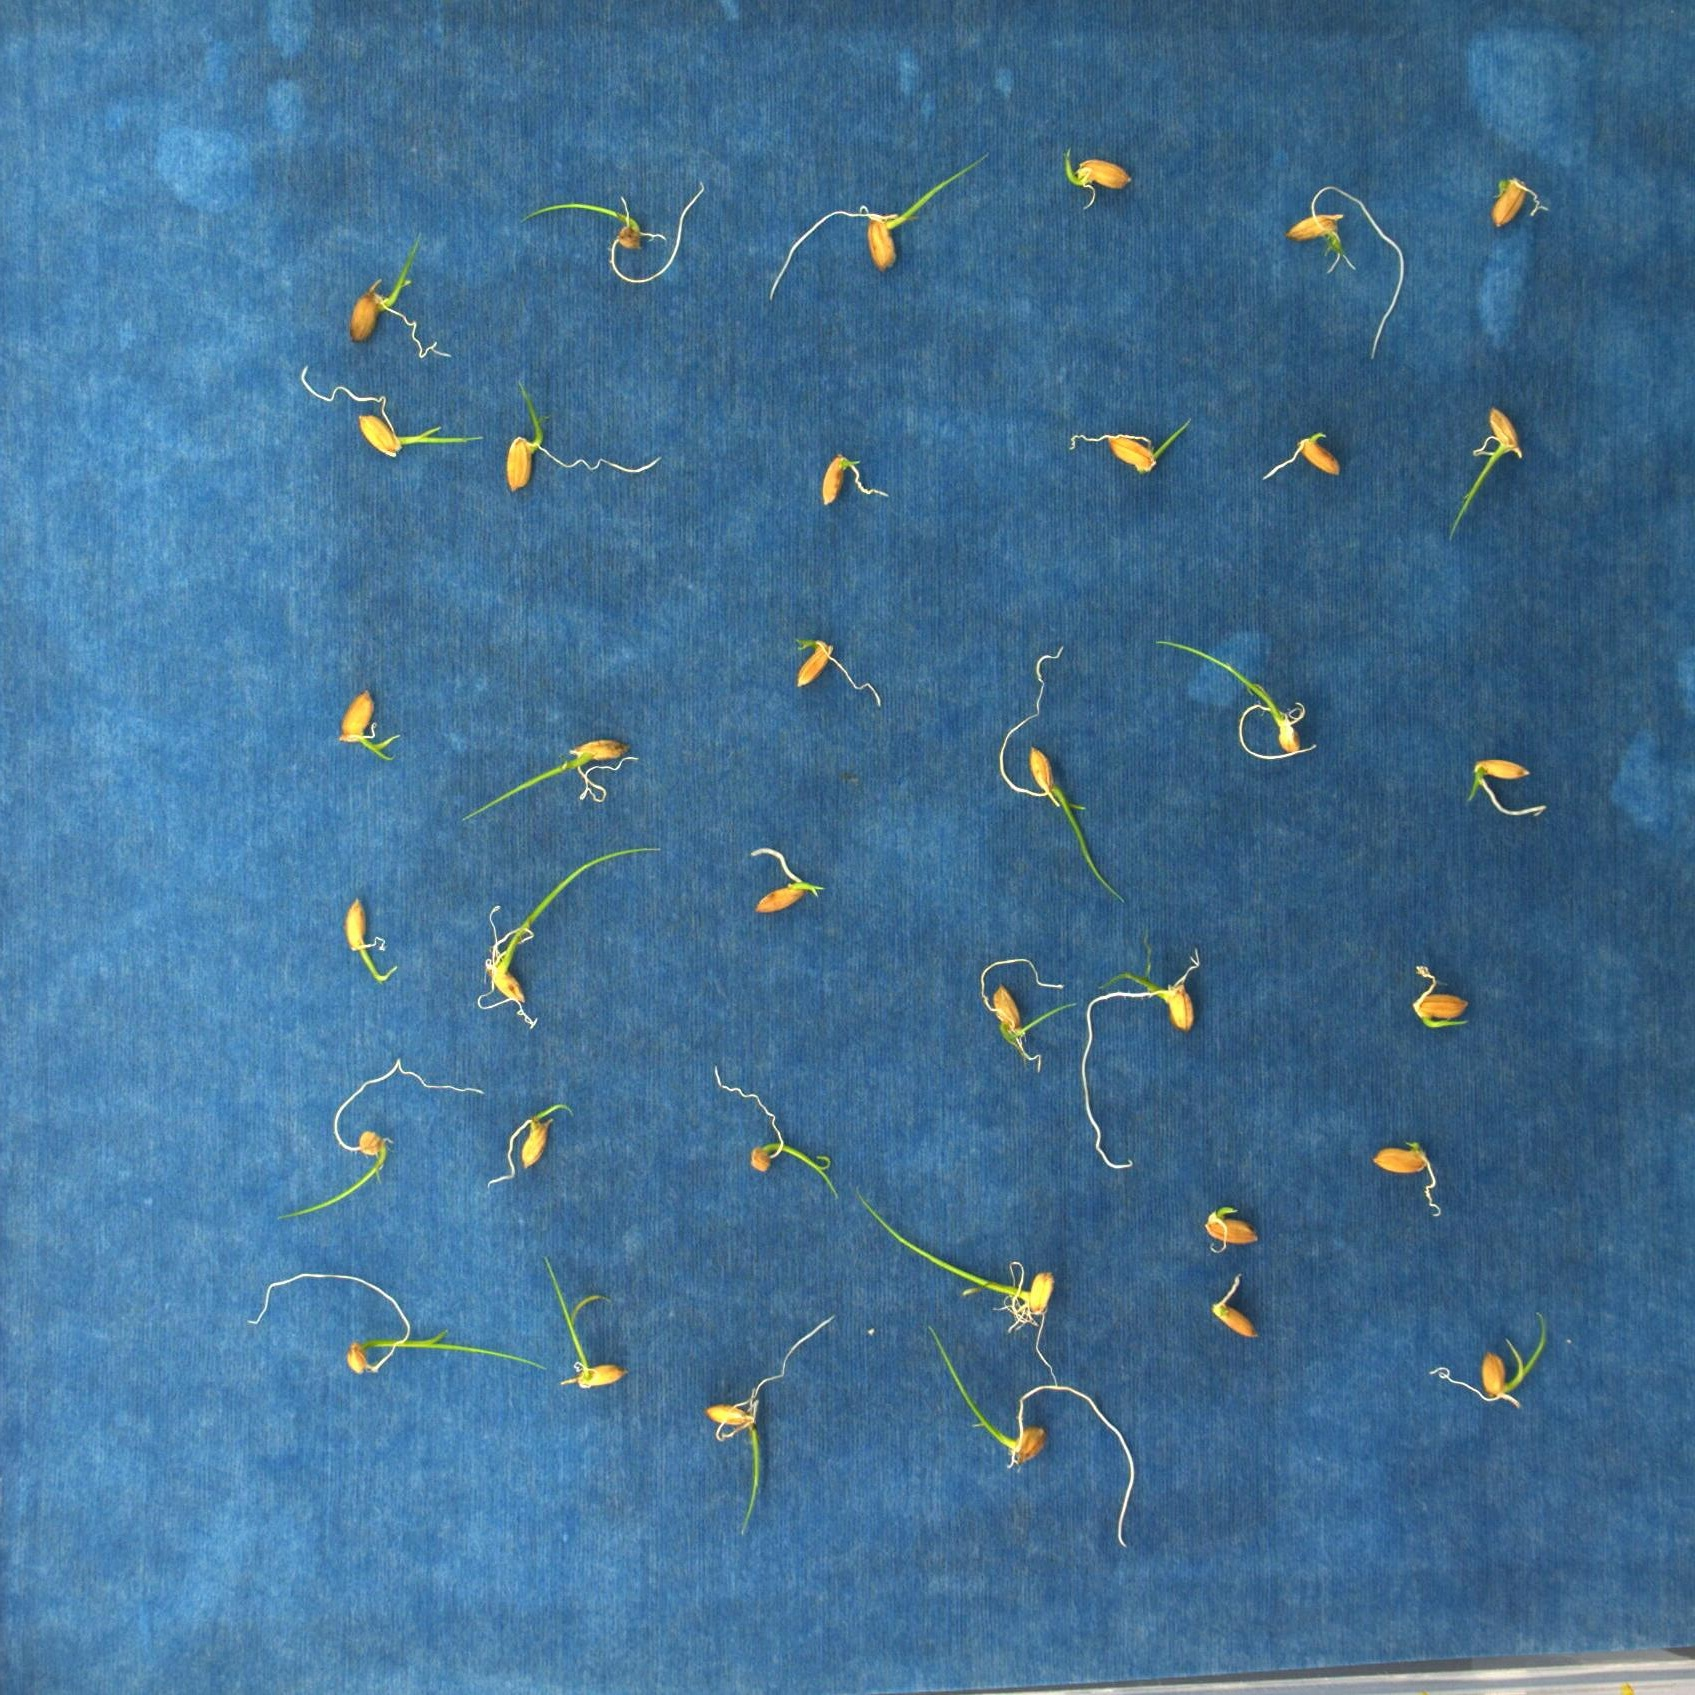not sprout: (1371, 1138, 1440, 1218), (1205, 1271, 1263, 1343), (1259, 432, 1343, 478), (821, 453, 889, 509)
sprout: (928, 1324, 1133, 1551), (852, 1183, 1062, 1388), (276, 1059, 486, 1223), (995, 646, 1128, 903), (480, 847, 661, 1029), (767, 152, 989, 298), (247, 1271, 549, 1375), (706, 1312, 838, 1537), (1080, 927, 1198, 1169), (1285, 183, 1405, 359), (1155, 636, 1319, 761), (518, 179, 706, 286), (504, 377, 663, 494), (711, 1060, 841, 1201), (300, 363, 483, 459), (463, 739, 641, 820), (351, 230, 458, 360), (1423, 1312, 1549, 1409), (540, 1253, 630, 1385), (981, 953, 1077, 1076), (1450, 408, 1523, 539), (487, 1104, 577, 1194), (1073, 413, 1192, 473), (795, 633, 882, 709), (747, 846, 827, 914), (345, 899, 400, 983), (1465, 761, 1546, 818), (1062, 149, 1135, 210), (340, 691, 400, 764), (1414, 959, 1471, 1031), (1489, 172, 1546, 230), (1203, 1205, 1259, 1251)
